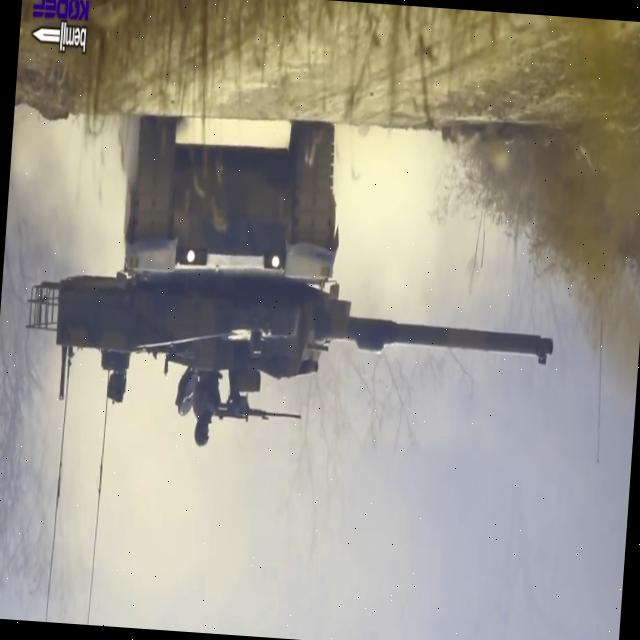korea tank: (16, 98, 568, 470)
